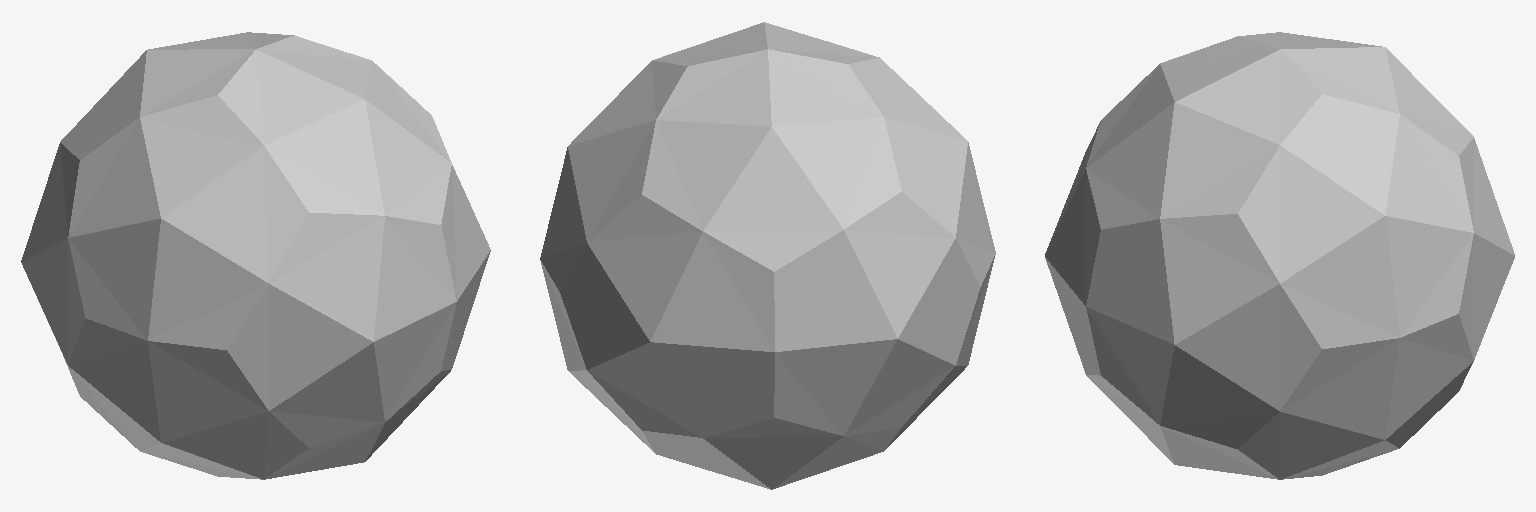
Rendered from weird_ball.obj.
3 views of the same model, side by side, from view 1: azimuth 30°, elevation 25°; view 2: azimuth 150°, elevation 25°; view 3: azimuth 270°, elevation 25° (orthographic).
Parts seen in each view (by area): view 1: pPlatonic1_Untitled.007; view 2: pPlatonic1_Untitled.007; view 3: pPlatonic1_Untitled.007.
Part boxes in pixels (bbox=[...]): pPlatonic1_Untitled.007: bbox=[21, 32, 490, 479]; pPlatonic1_Untitled.007: bbox=[540, 22, 995, 489]; pPlatonic1_Untitled.007: bbox=[1045, 32, 1514, 479].
Bounding box in the file's own units: 1.45 × 1.5 × 1.55.